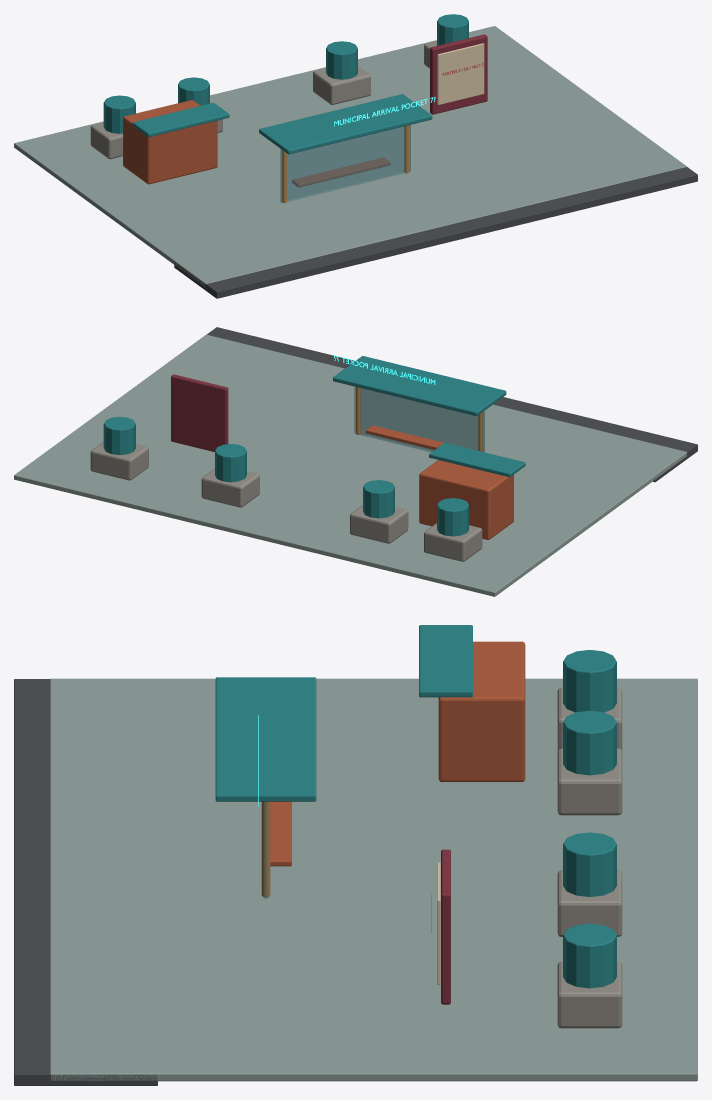
File: cell_public_transit_pocket.glb
3 renders of one model, top to bottom at view 1: azimuth 30°, elevation 25°; view 2: azimuth 150°, elevation 25°; view 3: azimuth 270°, elevation 25°, orthographic. The views are drawn at different scales.
Parts seen in each view (by area): view 1: TransitPlaza, BusLane, ShelterGlass, Newsstand, ShelterRoof, TransitMap, NewsstandCanopy, MunicipalNoticeBoard, Planter_2, TreeGuard_2, TreeGuard_0, TransitBench (+3 smaller); view 2: TransitPlaza, Newsstand, ShelterRoof, ShelterGlass, MunicipalNoticeBoard, BusLane, NewsstandCanopy, Planter_2, Planter_3, Planter_0, Planter_1, TreeGuard_3 (+4 smaller); view 3: TransitPlaza, BusLane, ShelterRoof, Newsstand, NewsstandCanopy, TreeGuard_2, TreeGuard_1, TreeGuard_3, TreeGuard_0, Planter_1, Planter_3, Planter_2 (+4 smaller).
Part boxes in pixels (x1,y1,x2,y2): TransitPlaza: (14,26,686,287); BusLane: (174,167,697,298); ShelterGlass: (280,125,410,202); Newsstand: (123,100,217,184); ShelterRoof: (259,94,432,154); TransitMap: (437,43,484,104); NewsstandCanopy: (132,102,229,137); MunicipalNoticeBoard: (430,34,487,114); Planter_2: (313,66,370,104); TreeGuard_2: (326,41,357,79); TreeGuard_0: (103,95,135,133); TransitBench: (292,157,390,187); TransitPlaza: (14,334,686,596); Newsstand: (419,460,513,539); ShelterRoof: (333,356,506,416); ShelterGlass: (354,386,484,452); MunicipalNoticeBoard: (171,374,228,451); BusLane: (207,327,697,482); NewsstandCanopy: (429,443,525,477); Planter_2: (201,468,259,507); Planter_3: (90,442,148,480); Planter_0: (424,523,482,561); Planter_1: (350,505,408,543); TreeGuard_3: (103,416,135,455); TransitPlaza: (50,678,697,1081); BusLane: (14,679,157,1085); ShelterRoof: (215,677,316,801); Newsstand: (438,641,525,781); NewsstandCanopy: (419,625,472,697); TreeGuard_2: (563,832,616,896); TreeGuard_1: (563,710,616,775); TreeGuard_3: (563,923,616,988); TreeGuard_0: (563,650,616,712); Planter_1: (557,748,622,815); Planter_3: (557,961,622,1028); Planter_2: (557,870,622,936).
Size of what is drawn, in the model's own units: 26 by 4.03 by 19.
